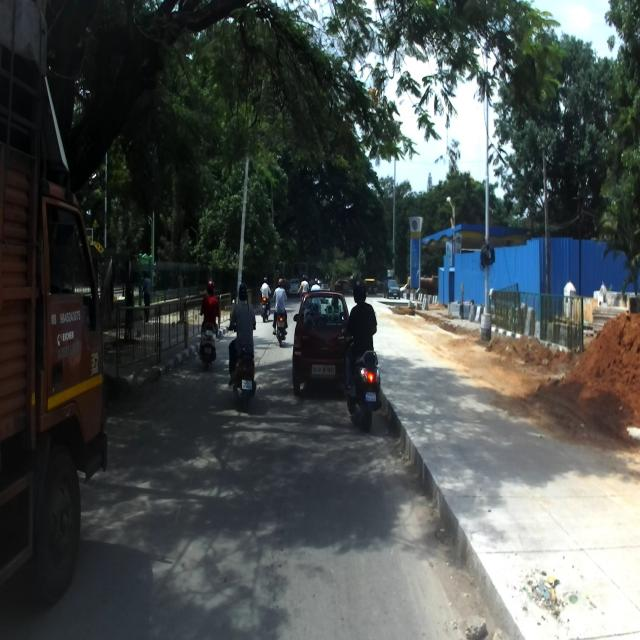car: (292, 292, 358, 395)
scooter: (341, 312, 382, 431)
truck: (0, 0, 113, 638)
